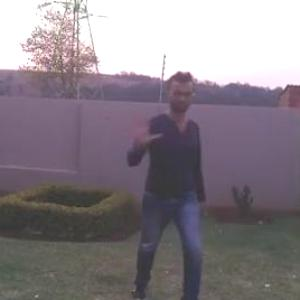follow_hand: (126, 108, 164, 144)
